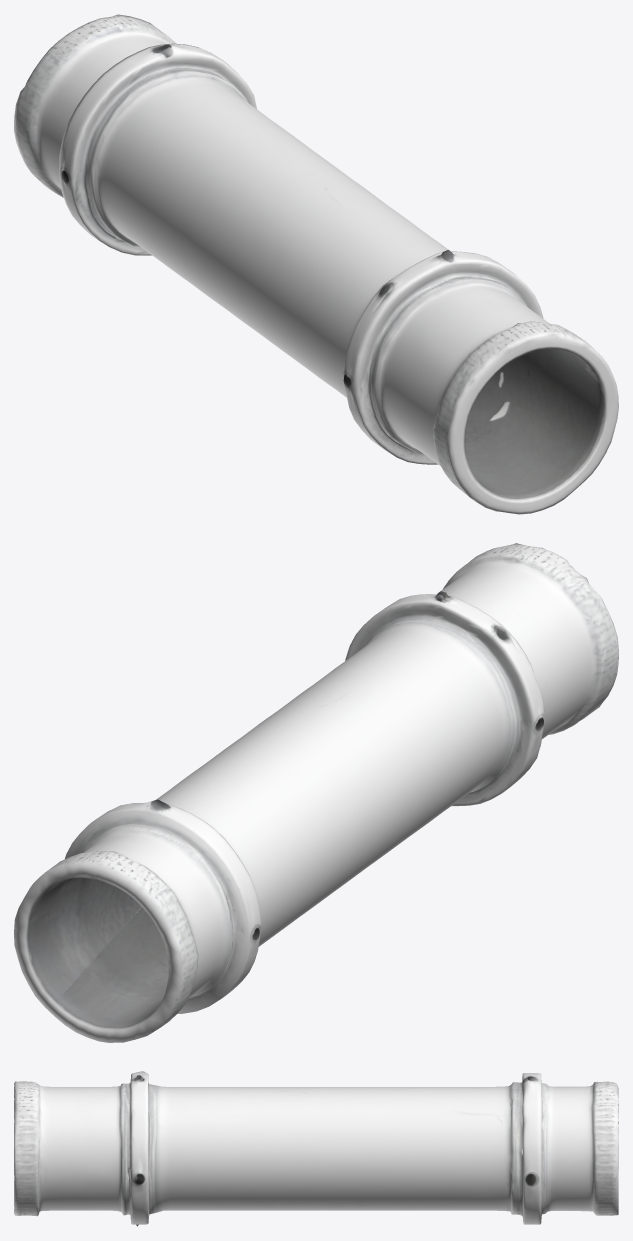
Rendered from pipe.glb.
The picture shows the model from 3 angles, top to bottom: view 1: azimuth 30°, elevation 25°; view 2: azimuth 150°, elevation 25°; view 3: azimuth 270°, elevation 25°; orthographic projection. The views are drawn at different scales.
Bounding box in the file's own units: 0.5316 × 0.5523 × 2.
Materials: 1 (1 with a texture image).
